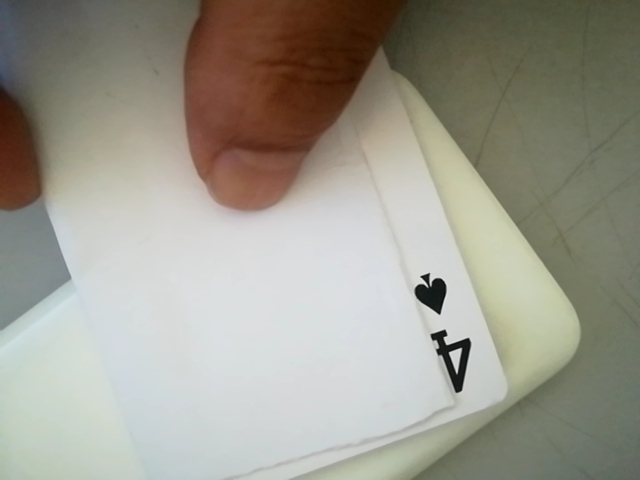ht 4: (400, 262, 489, 402)
